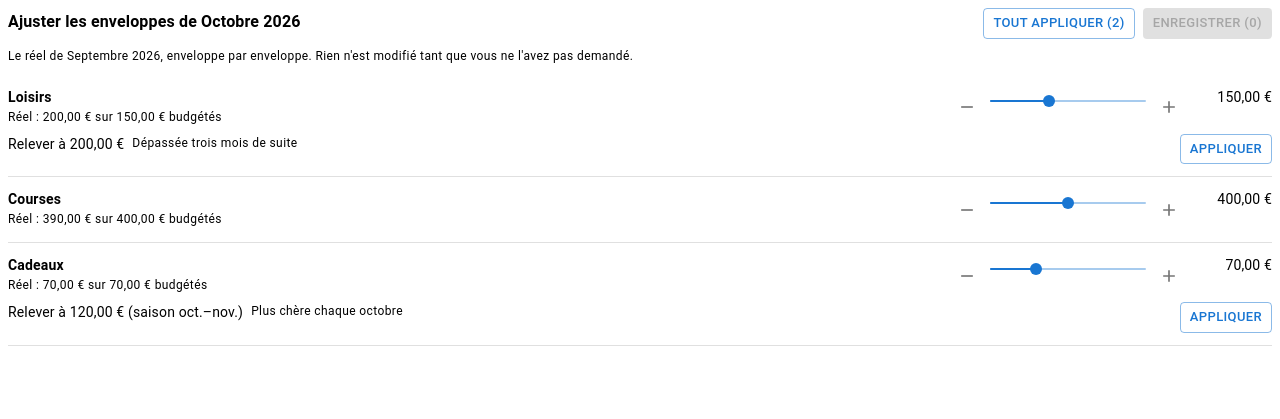
Test: EnvelopeAdjustments › a refusal shows the API message and marks nothing applied
Click the button with aria-label "Appliquer pour Loisirs": (1226,149) top-left (1180, 134), bottom-right (1272, 164)
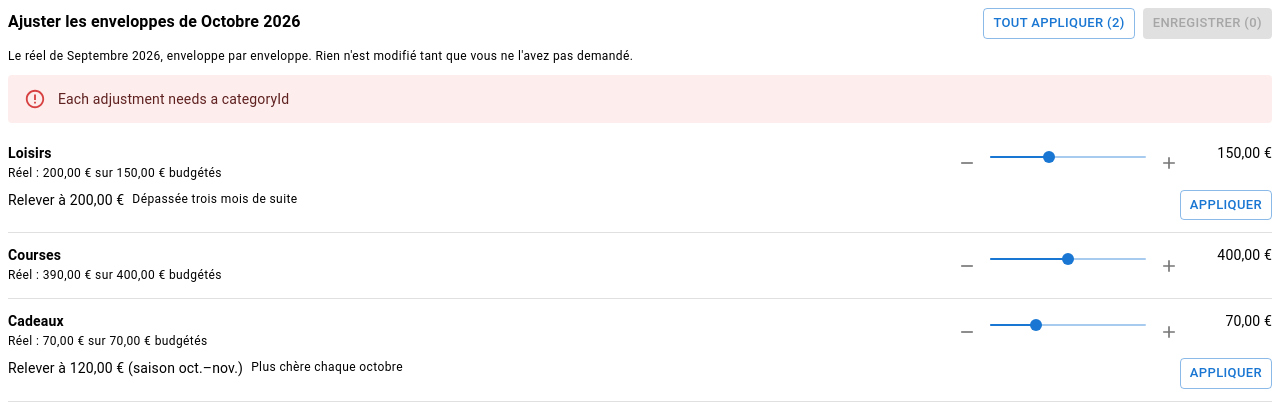
Expected: the button with aria-label "Appliquer pour Loisirs" is enabled, top-left (1180, 190), bottom-right (1272, 220)
Expected: the message reads "Each adjustment needs a categoryId", top-left (58, 91), bottom-right (289, 107)
